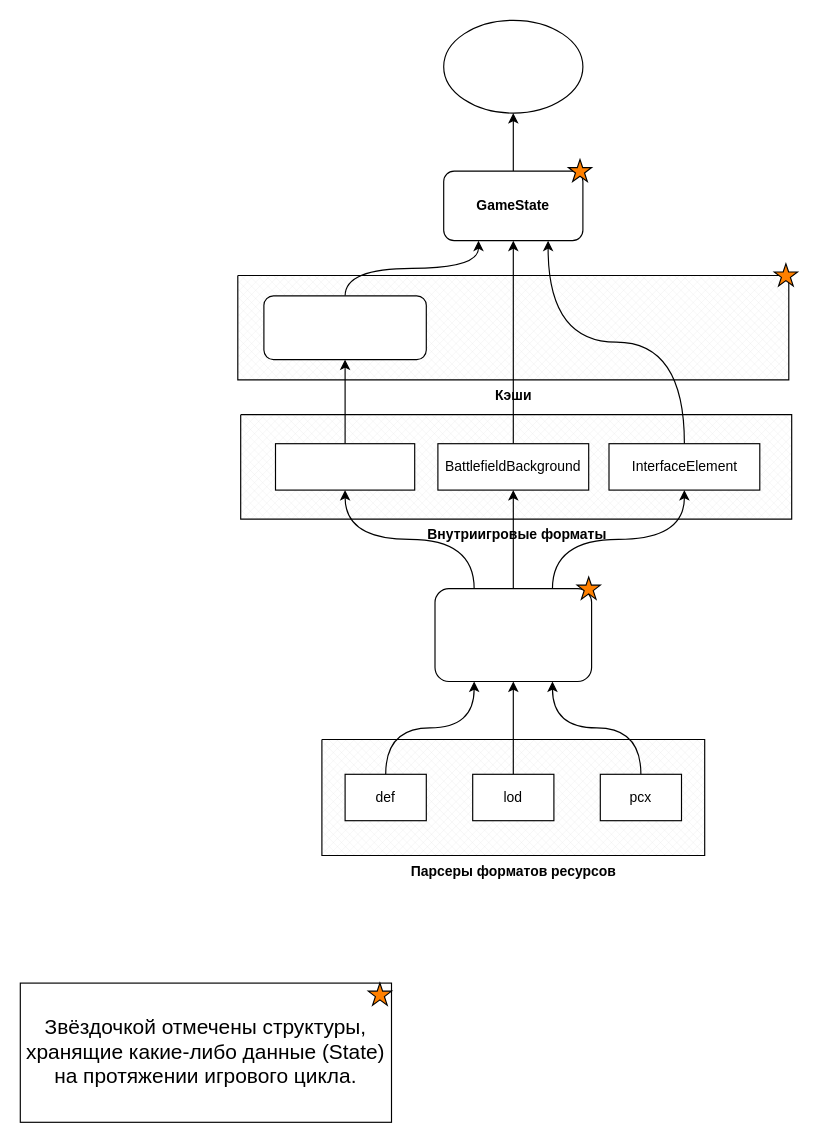
Some shapes in this 818 by 1143 pixel diagram are drawn without their labels. Here are the shapes that lost their labels. From the top down, the centre of each, then its label:
the point at 513,66: Отрисовка
the point at 344,327: CreatureSpritesheet Cache
the point at 344,466: CreatureSpritesheet
the point at 513,635: Resource Manager Держит хэндлы файлов
